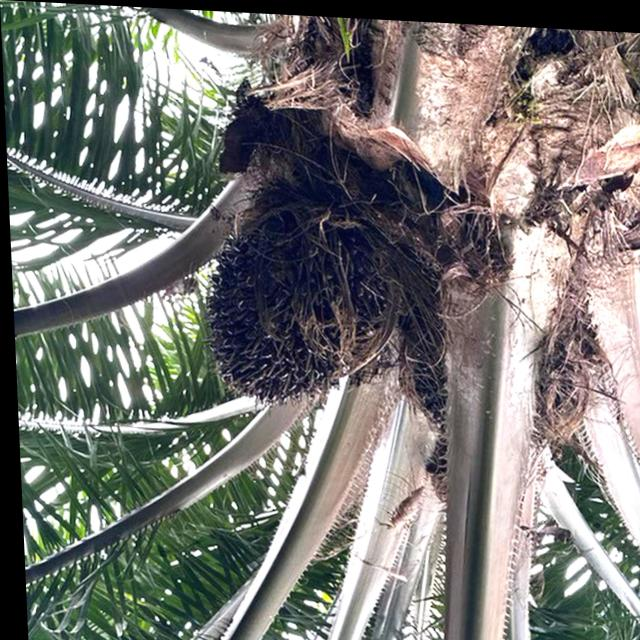ripe: (195, 197, 388, 410)
